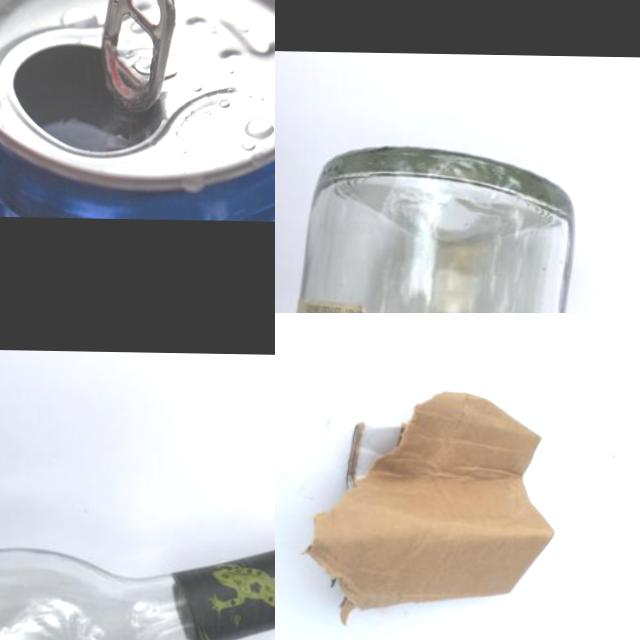aba de lata: (94, 0, 178, 115)
garrafa de vidro: (275, 142, 576, 313), (0, 522, 275, 640)
lata: (0, 0, 275, 222)
papelão: (302, 386, 554, 626)
